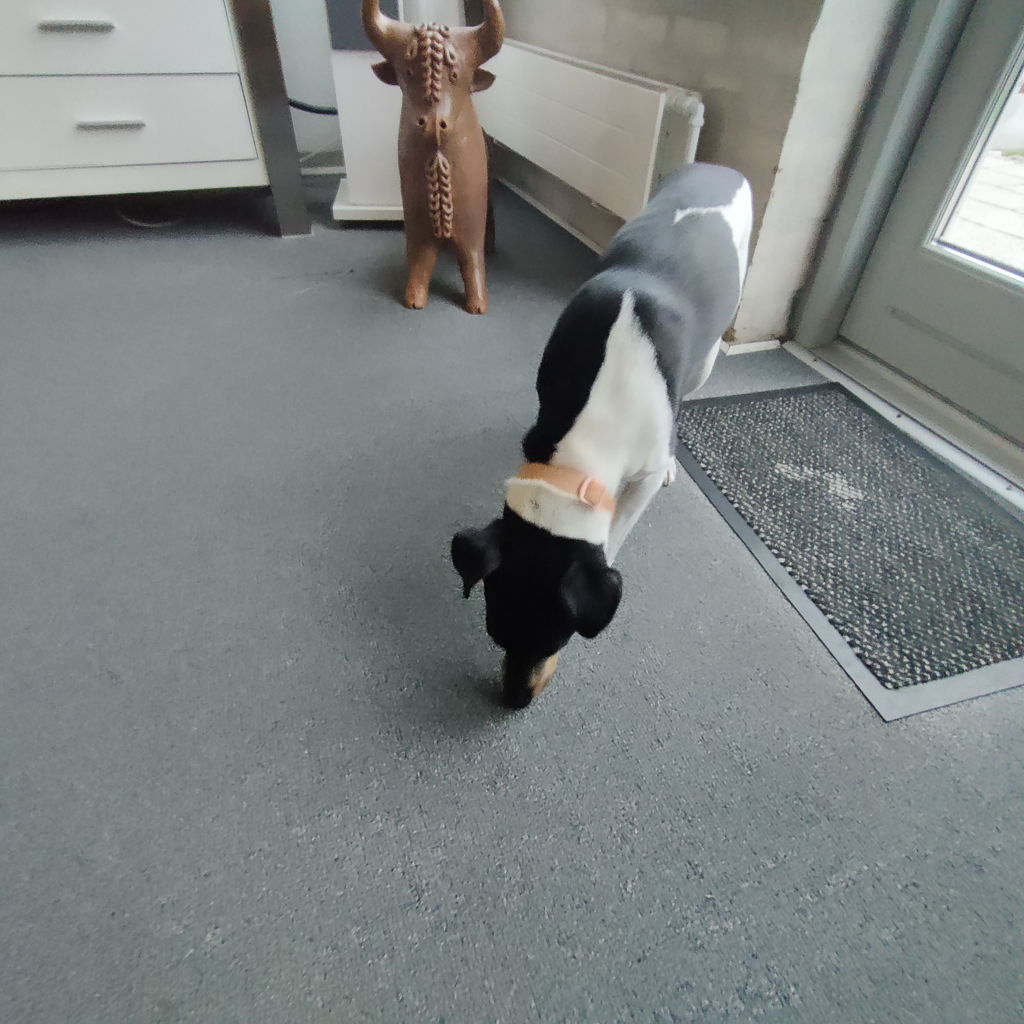Cattle: (345, 0, 530, 344)
Dog: (410, 121, 786, 763)
